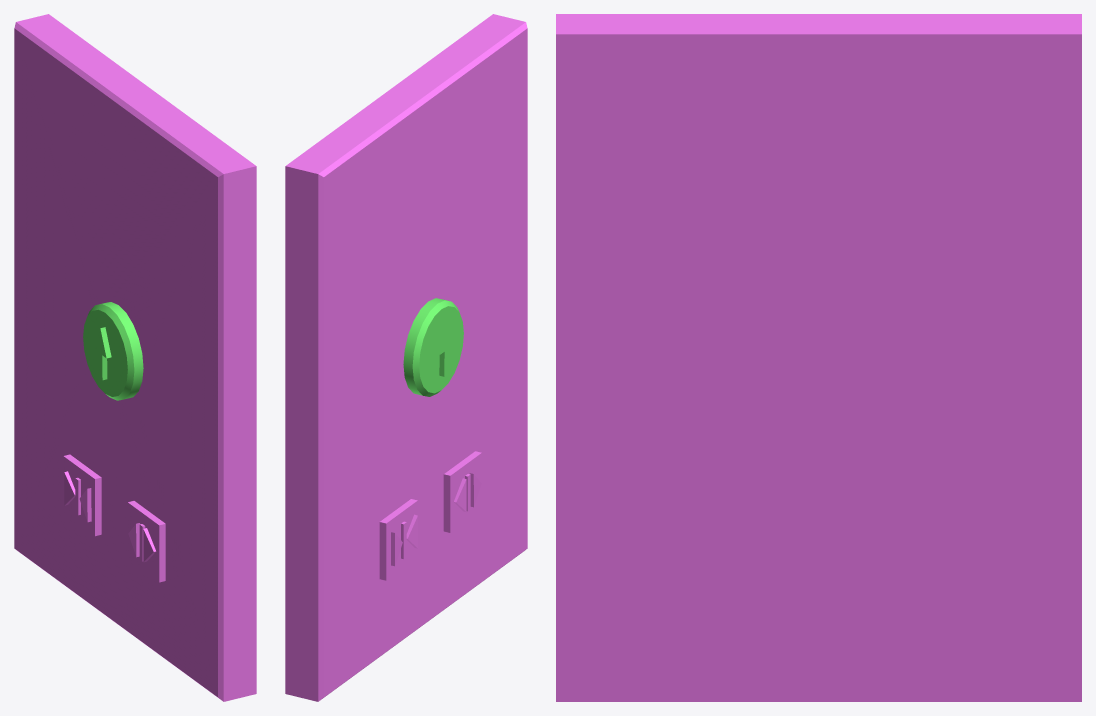
Rendered from panel1.fbx.
The picture shows the model from 3 angles, left to right: view 1: azimuth 30°, elevation 25°; view 2: azimuth 150°, elevation 25°; view 3: azimuth 270°, elevation 25°; orthographic projection. The views are drawn at different scales.
Parts seen in each view (by area): view 1: pasted__panel, pCylinder1, pCube24, pCube23, pCube13; view 2: pasted__panel, pCylinder1, pCube24, pCube23, pCube13; view 3: pasted__panel.
Boxes of the visible parts, left/top/right/bottom form: pasted__panel: left=14, top=14, right=256, bottom=701; pCylinder1: left=83, top=302, right=143, bottom=400; pCube24: left=63, top=454, right=101, bottom=536; pCube23: left=127, top=501, right=165, bottom=582; pCube13: left=94, top=327, right=111, bottom=380; pasted__panel: left=285, top=14, right=527, bottom=701; pCylinder1: left=403, top=298, right=463, bottom=396; pCube24: left=379, top=499, right=418, bottom=580; pCube23: left=443, top=451, right=481, bottom=532; pCube13: left=435, top=323, right=452, bottom=376; pasted__panel: left=556, top=14, right=1081, bottom=701.
Bounding box in the file's own units: 0.0453 × 0.4168 × 0.2975.
